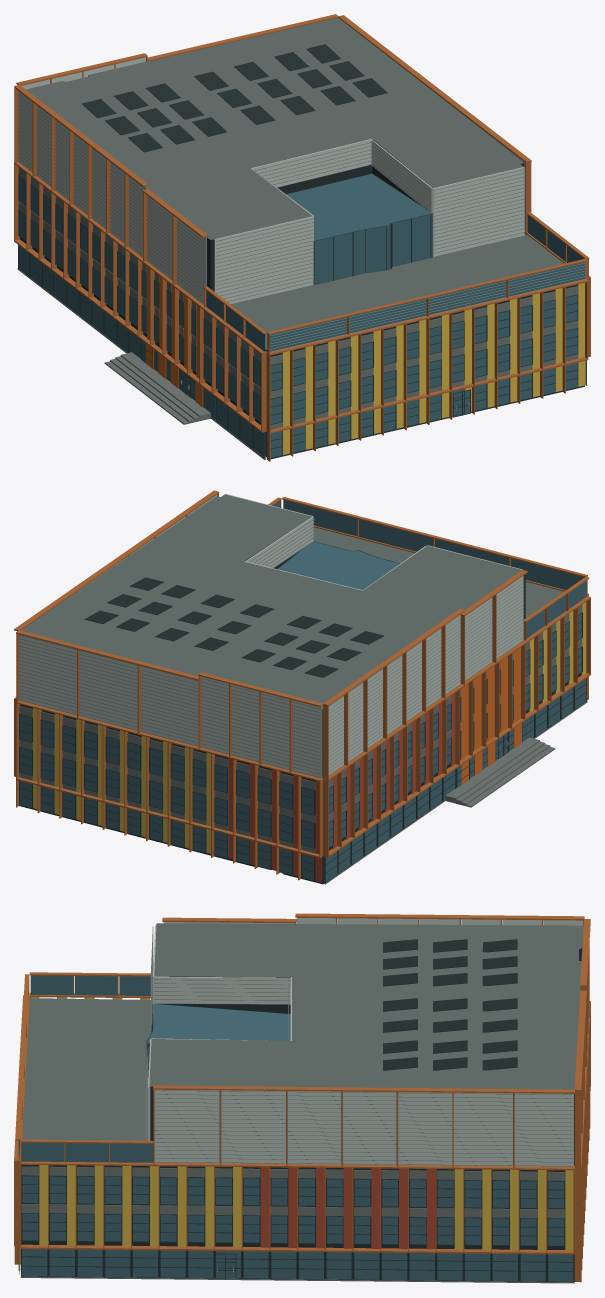
File: haparandaweg-2-4.glb
3 renders of one model, top to bottom at view 1: azimuth 30°, elevation 25°; view 2: azimuth 150°, elevation 25°; view 3: azimuth 270°, elevation 25°, orthographic. The views are drawn at different scales.
Parts seen in each view (by area): view 1: haparandaweg-2-4; view 2: haparandaweg-2-4; view 3: haparandaweg-2-4.
Boxes of the visible parts, x1,y1,x2,y2 form: haparandaweg-2-4: (14, 14, 590, 461); haparandaweg-2-4: (14, 490, 590, 884); haparandaweg-2-4: (14, 913, 590, 1283).
Size of the model in its own units: 44.42 by 21.98 by 57.89.
